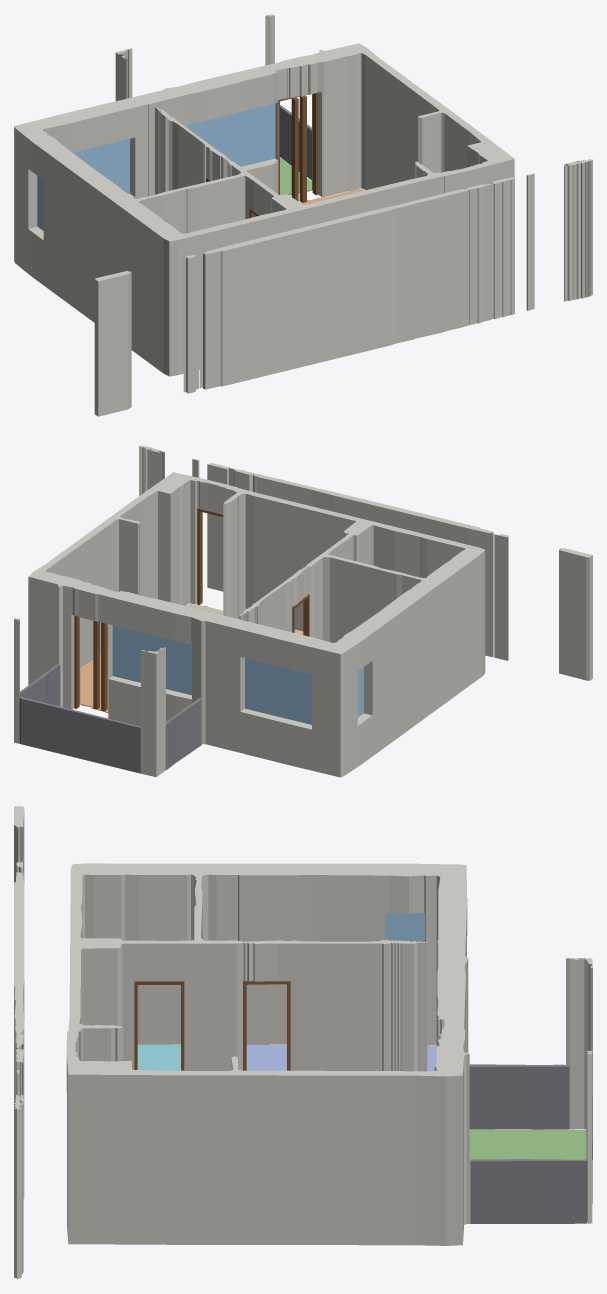
3 views of the same model, one above another, from view 1: azimuth 30°, elevation 25°; view 2: azimuth 150°, elevation 25°; view 3: azimuth 270°, elevation 25° (orthographic). The views are drawn at different scales.
Parts seen in each view (by area): view 1: walls, window_7, window_6, railings, door_0, door_2, door_1; view 2: walls, railings, window_6, window_7, floor_2_Living_Room, door_5, door_2, door_1, door_0; view 3: walls, railings, floor_0_Outdoor, floor_3_Bed_Room, floor_4_Bath, window_8, door_4, door_3.
Boxes of the visible parts, bbox=[...] form: walls: bbox=[14, 14, 592, 416]; window_7: bbox=[188, 103, 275, 166]; window_6: bbox=[73, 139, 129, 193]; railings: bbox=[280, 105, 311, 180]; door_0: bbox=[278, 92, 318, 195]; door_2: bbox=[299, 95, 306, 202]; door_1: bbox=[291, 97, 298, 201]; walls: bbox=[14, 445, 592, 777]; railings: bbox=[19, 664, 201, 773]; window_6: bbox=[245, 658, 311, 724]; window_7: bbox=[112, 625, 191, 695]; floor_2_Living_Room: bbox=[80, 649, 108, 713]; door_5: bbox=[197, 508, 223, 604]; door_2: bbox=[93, 621, 99, 709]; door_1: bbox=[101, 622, 107, 711]; door_0: bbox=[74, 616, 79, 708]; walls: bbox=[14, 806, 592, 1279]; railings: bbox=[469, 1064, 592, 1223]; floor_0_Outdoor: bbox=[469, 1129, 586, 1223]; floor_3_Bed_Room: bbox=[246, 1045, 437, 1071]; floor_4_Bath: bbox=[137, 1044, 180, 1070]; window_8: bbox=[385, 913, 424, 941]; door_4: bbox=[134, 981, 184, 1070]; door_3: bbox=[243, 980, 290, 1070].
Size of the model in its own units: 10.36 by 2.72 by 8.36.
